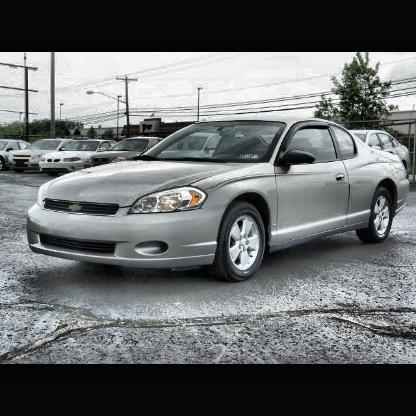Chevrolet Monte Carlo Coupe 2007: (29, 119, 412, 282)
